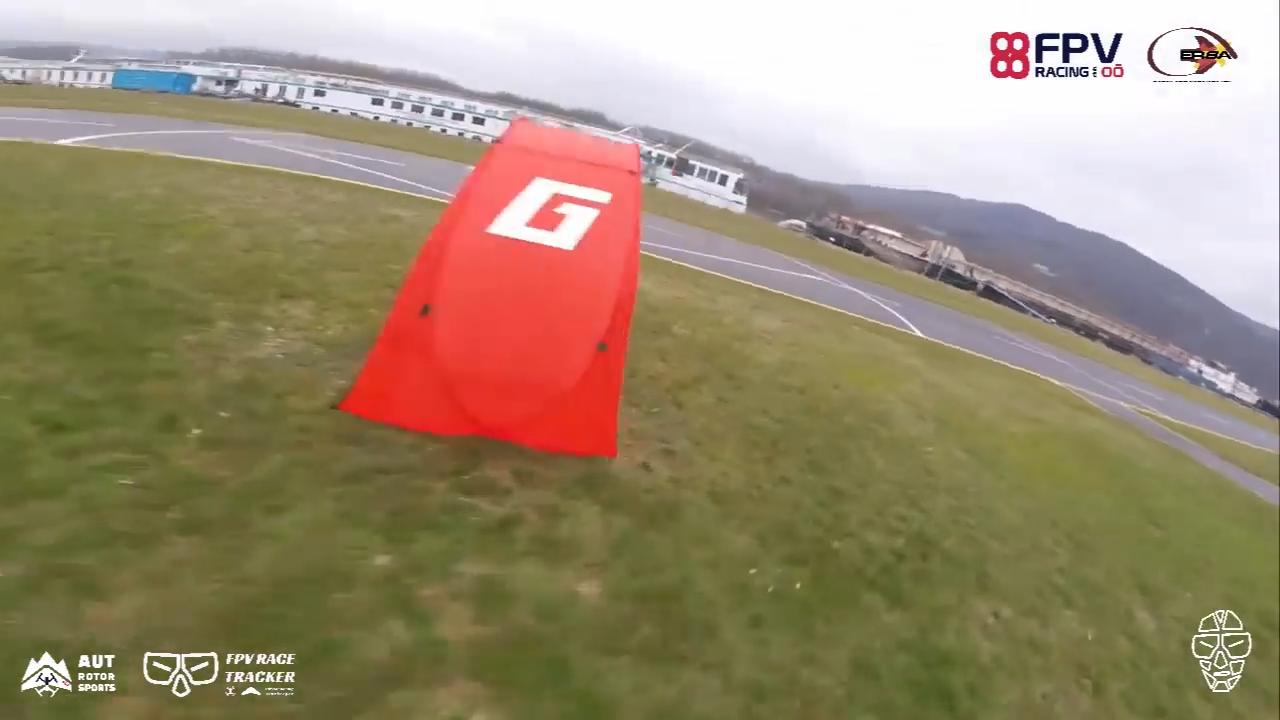gate: (338, 113, 643, 462)
